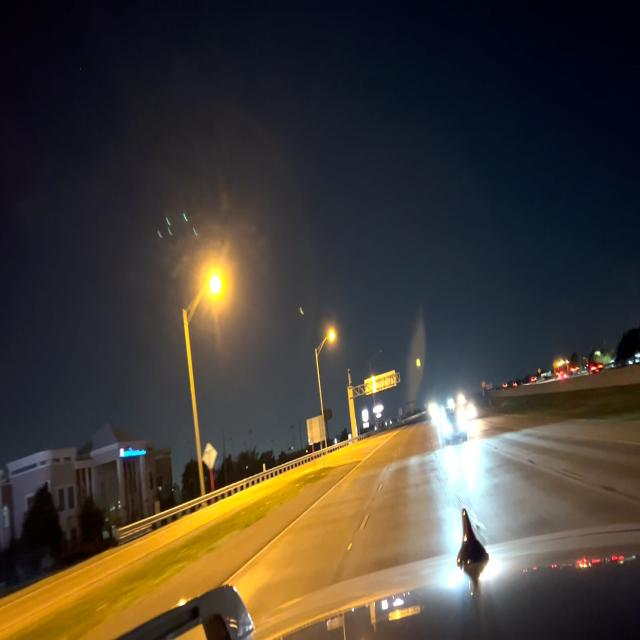back-of-sign: (307, 414, 327, 447), (203, 440, 217, 470)
